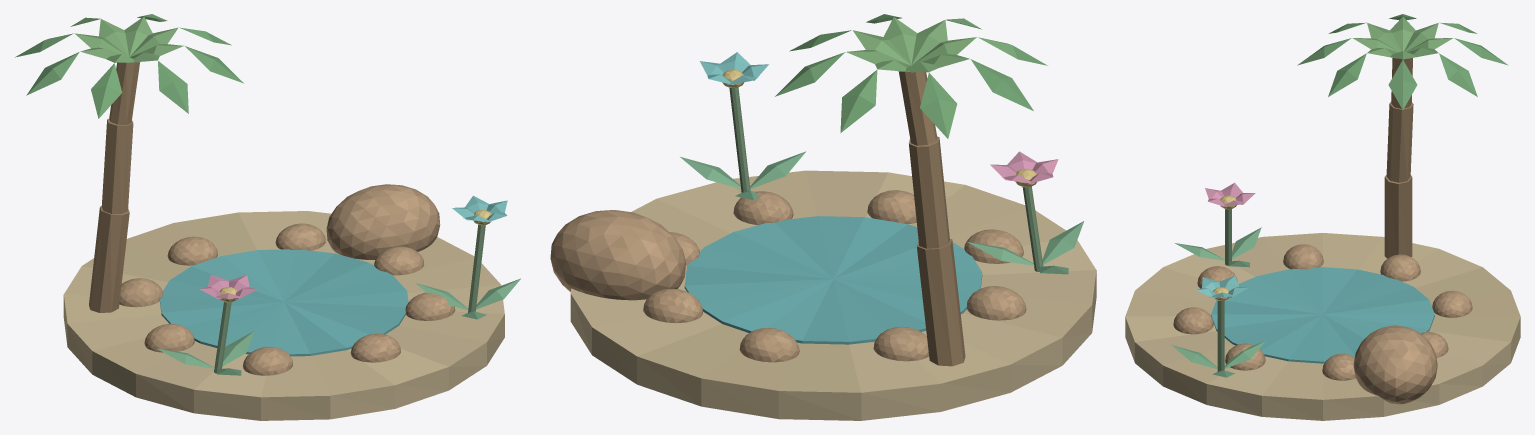
The model's file is oasis_rare_bloom.glb.
3 renders of one model, left to right at view 1: azimuth 30°, elevation 25°; view 2: azimuth 150°, elevation 25°; view 3: azimuth 270°, elevation 25°, orthographic. The views are drawn at different scales.
Parts seen in each view (by area): view 1: sand, pool, large_rock, central_palm_trunk_0, central_palm_trunk_1, central_palm_trunk_2, pool_stone_6, pool_stone_5, pool_stone_0, pool_stone_2, pool_stone_4, pool_stone_1 (+13 smaller); view 2: sand, pool, large_rock, central_palm_trunk_0, central_palm_trunk_1, central_palm_trunk_2, pool_stone_1, pool_stone_2, pool_stone_4, pool_stone_3, pool_stone_7, pool_stone_6 (+15 smaller); view 3: sand, pool, large_rock, central_palm_trunk_0, central_palm_trunk_1, pool_stone_6, pool_stone_2, pool_stone_3, pool_stone_4, central_palm_frond_b_0, pool_stone_0, central_palm_frond_b_7 (+15 smaller).
Part boxes in pixels (bbox=[...]): sand: bbox=[63, 211, 504, 420]; pool: bbox=[159, 249, 408, 356]; large_rock: bbox=[326, 184, 440, 259]; central_palm_trunk_0: bbox=[89, 206, 129, 312]; central_palm_trunk_1: bbox=[101, 119, 133, 213]; central_palm_trunk_2: bbox=[109, 62, 139, 124]; pool_stone_6: bbox=[350, 333, 400, 362]; pool_stone_5: bbox=[243, 346, 292, 375]; pool_stone_0: bbox=[374, 246, 423, 275]; pool_stone_2: bbox=[167, 236, 217, 265]; pool_stone_4: bbox=[144, 323, 194, 352]; pool_stone_1: bbox=[275, 223, 325, 250]; sand: bbox=[570, 170, 1096, 420]; pool: bbox=[684, 216, 982, 344]; large_rock: bbox=[550, 210, 685, 300]; central_palm_trunk_0: bbox=[917, 238, 965, 366]; central_palm_trunk_1: bbox=[909, 136, 949, 248]; central_palm_trunk_2: bbox=[899, 71, 937, 145]; pool_stone_1: bbox=[643, 288, 703, 323]; pool_stone_2: bbox=[739, 327, 799, 362]; pool_stone_4: bbox=[967, 286, 1026, 320]; pool_stone_3: bbox=[873, 326, 928, 361]; pool_stone_7: bbox=[733, 191, 793, 225]; pool_stone_6: bbox=[867, 190, 916, 224]; sand: bbox=[1125, 233, 1520, 420]; pool: bbox=[1211, 267, 1434, 363]; large_rock: bbox=[1353, 325, 1437, 404]; central_palm_trunk_0: bbox=[1384, 175, 1412, 258]; central_palm_trunk_1: bbox=[1386, 101, 1413, 182]; pool_stone_6: bbox=[1173, 307, 1213, 334]; pool_stone_2: bbox=[1432, 290, 1472, 317]; pool_stone_3: bbox=[1380, 254, 1420, 281]; pool_stone_4: bbox=[1283, 244, 1323, 269]; central_palm_frond_b_0: bbox=[1388, 60, 1417, 109]; pool_stone_0: bbox=[1322, 353, 1355, 380]; central_palm_frond_b_7: bbox=[1328, 53, 1366, 96].
Size of the model in its own units: 2.87 by 1.91 by 2.72.
